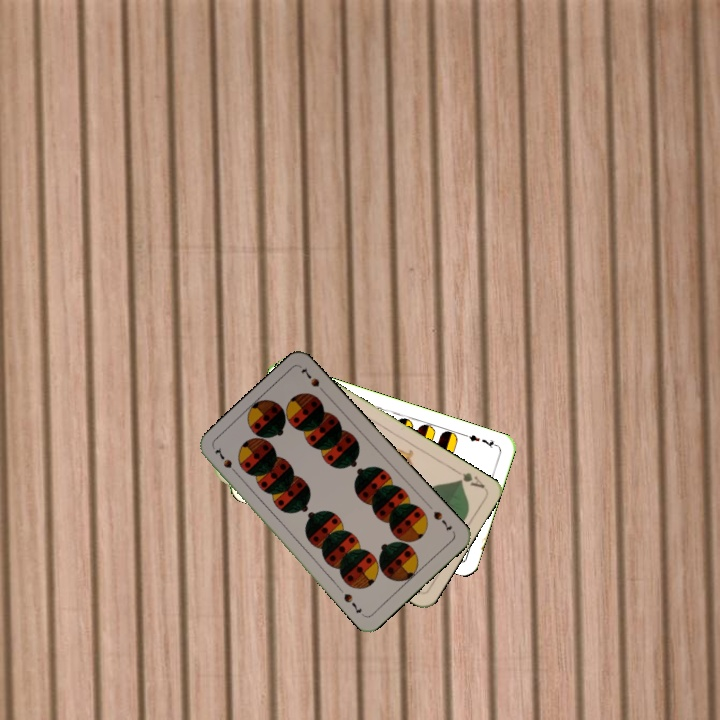E7: (460, 430, 500, 451)
GA: (450, 465, 487, 491)
S7: (210, 444, 241, 478), (429, 507, 455, 533)
